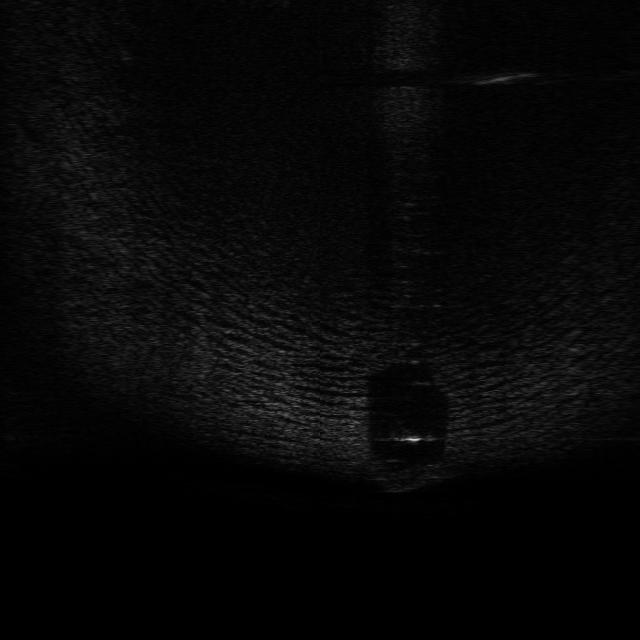cube: (376, 461, 452, 494)
